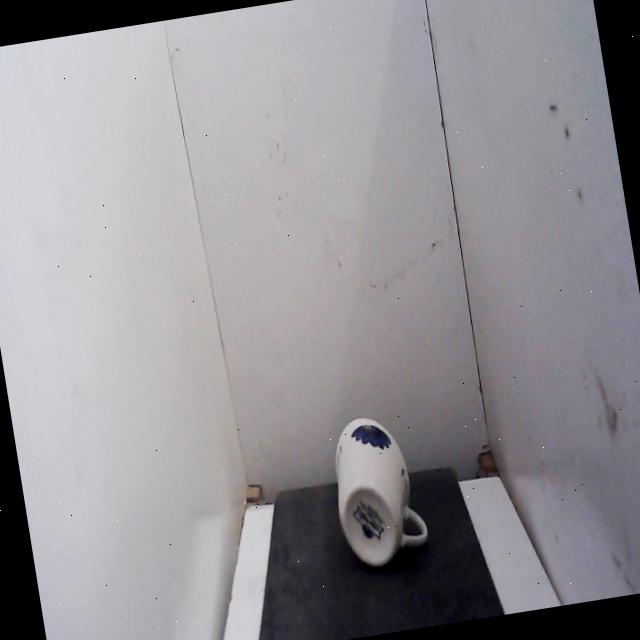vidro: (318, 402, 438, 586)
